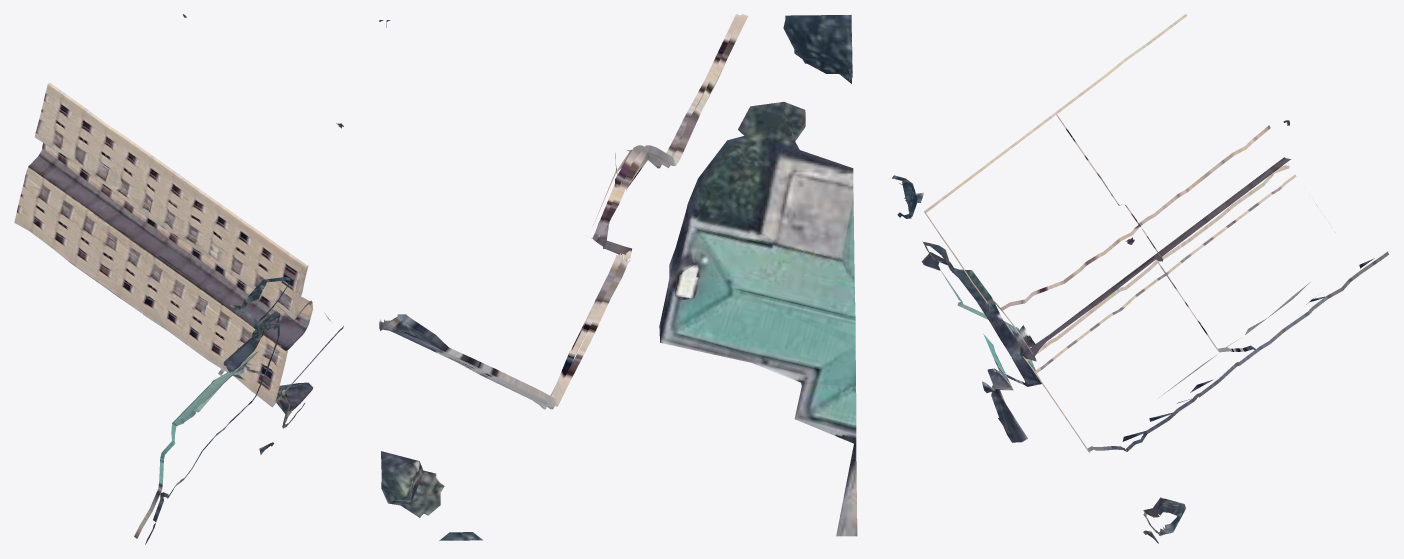
3 views of the same model, side by side, from view 1: azimuth 30°, elevation 25°; view 2: azimuth 150°, elevation 25°; view 3: azimuth 270°, elevation 25° (orthographic). The views are drawn at different scales.
Bounding box in the file's own units: 34.91 × 50.3 × 53.62.
2 materials, 2 textured.
